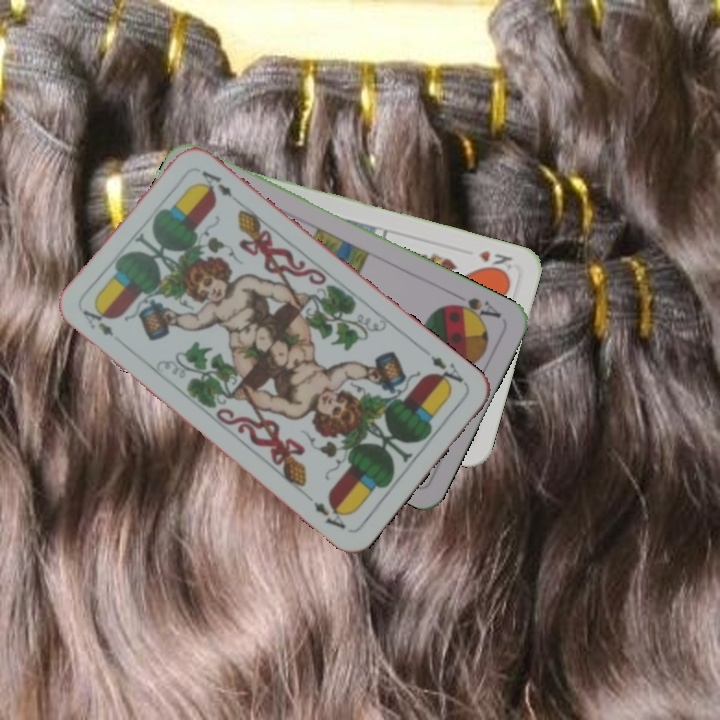EA: (426, 351, 466, 390), (78, 306, 117, 339)
HK: (475, 246, 515, 277)
SA: (446, 289, 504, 324)
